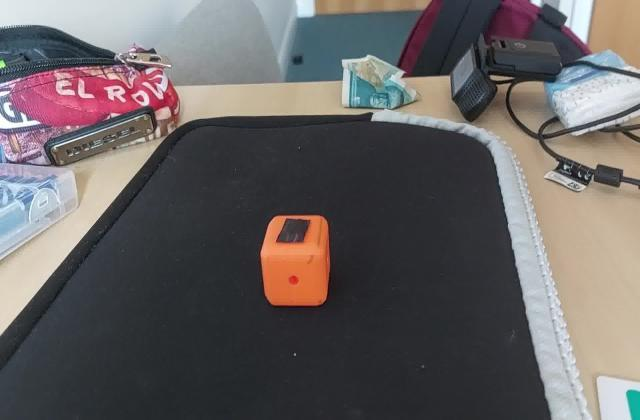black: (273, 217, 315, 246)
cube: (260, 212, 334, 310)
